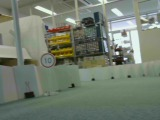speed_10: (39, 52, 56, 69)
